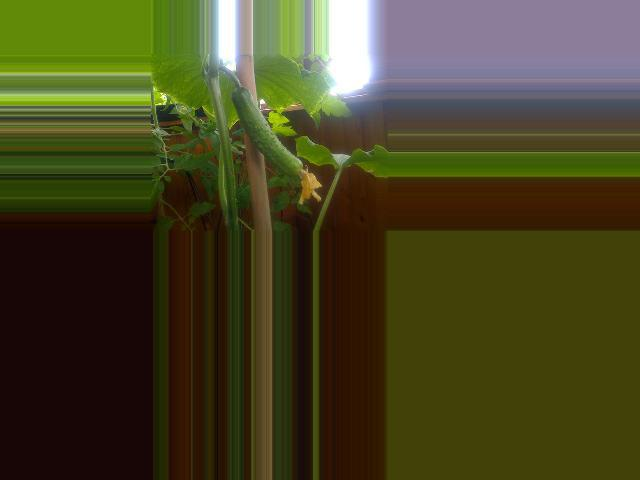cucumber: (232, 87, 323, 205)
